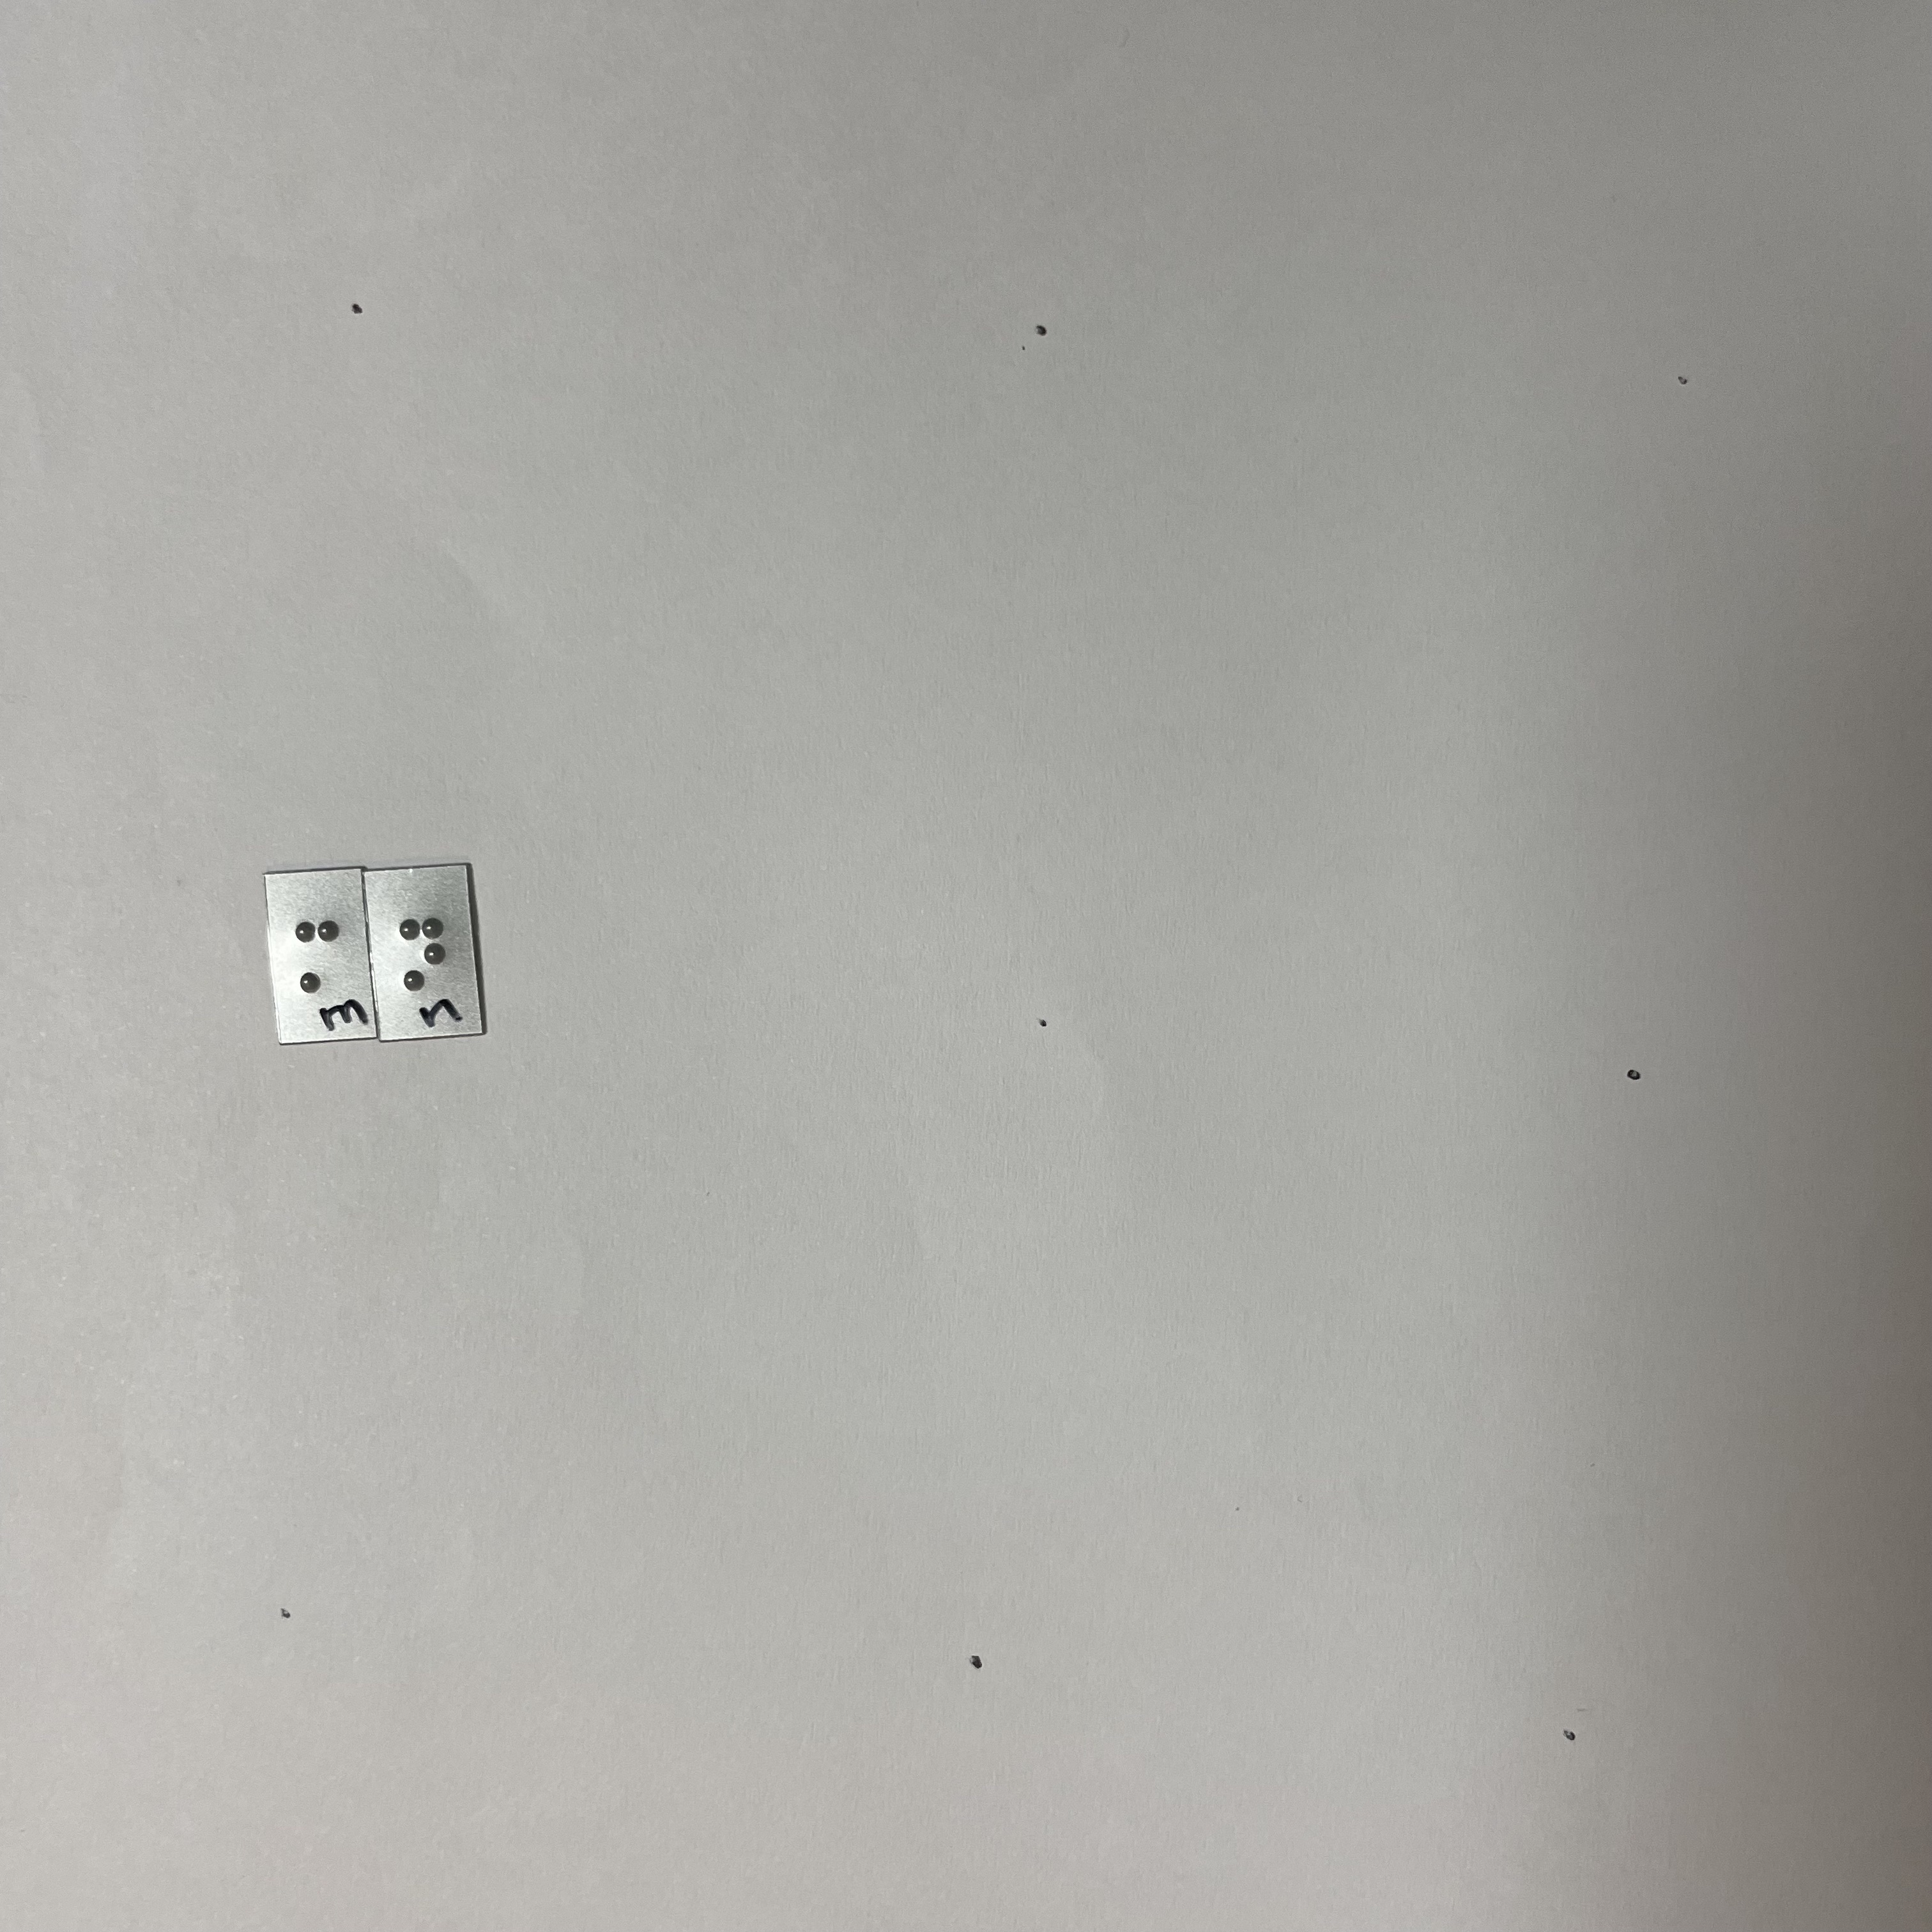m: (289, 914, 350, 1004)
n: (390, 909, 462, 999)
